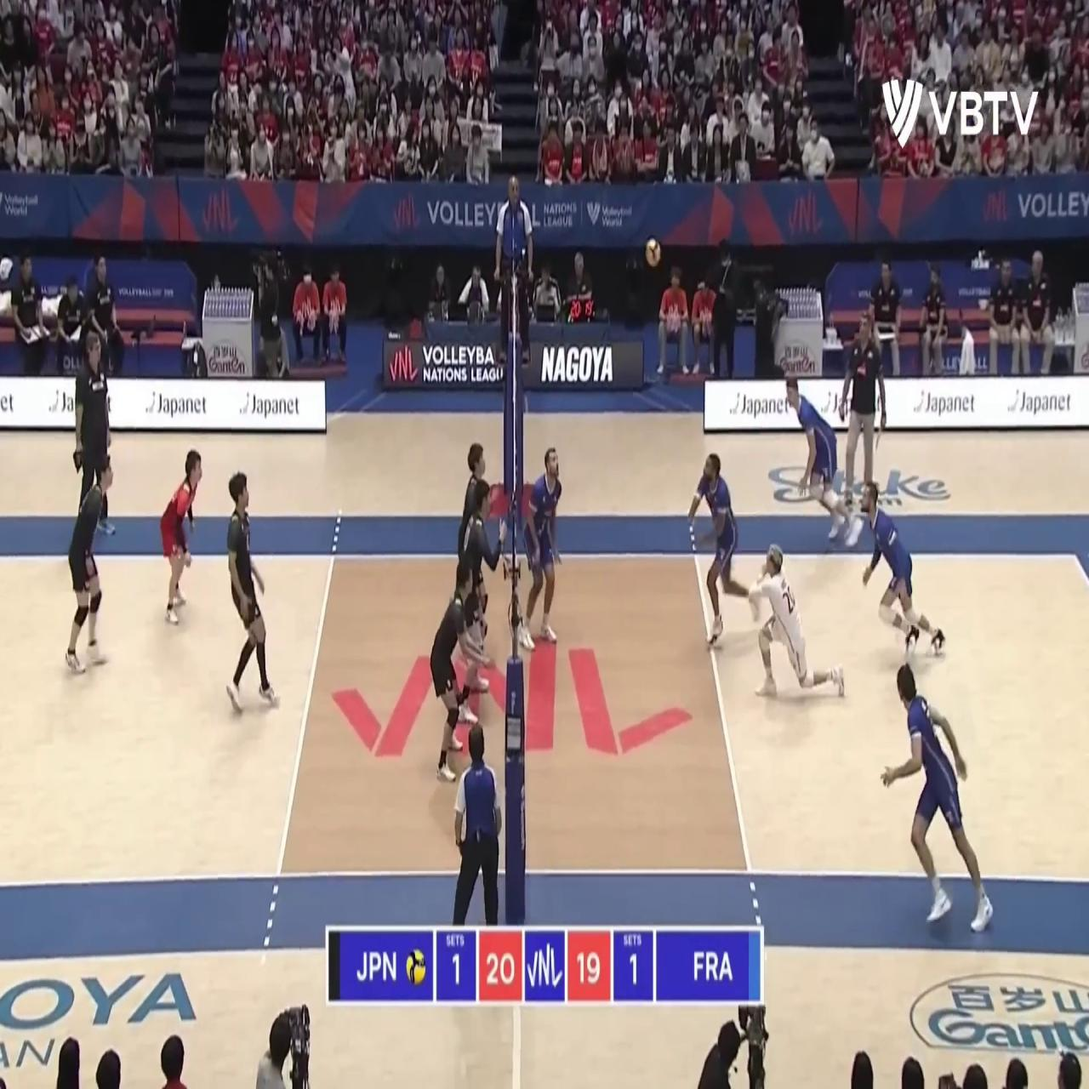ball: (646, 239, 661, 266)
